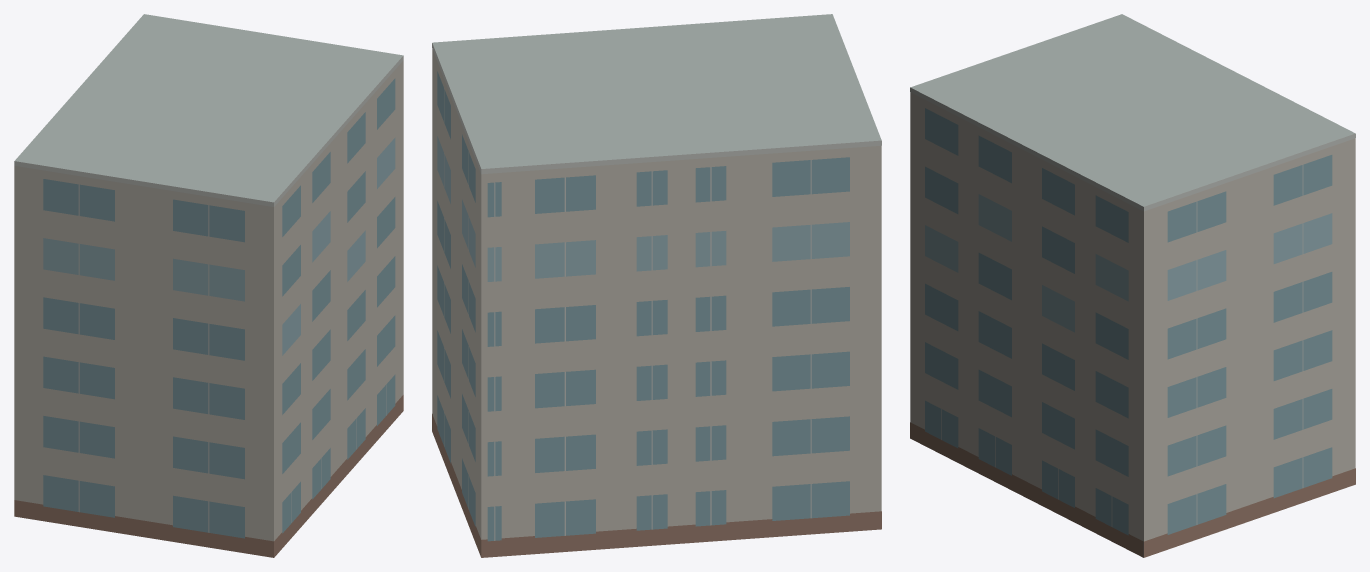
The model's file is survey-upis-32731001.glb.
3 renders of one model, left to right at view 1: azimuth 30°, elevation 25°; view 2: azimuth 150°, elevation 25°; view 3: azimuth 270°, elevation 25°, orthographic. The views are drawn at different scales.
Visible parts, largest first — view 1: survey-upis-32731001.tmp; view 2: survey-upis-32731001.tmp; view 3: survey-upis-32731001.tmp.
Part boxes in pixels (x1,y1,x2,y2): survey-upis-32731001.tmp: [14, 14, 403, 557]; survey-upis-32731001.tmp: [432, 14, 881, 557]; survey-upis-32731001.tmp: [910, 14, 1355, 557].
Size of the model in its own units: 21.57 by 18.3 by 21.06.
